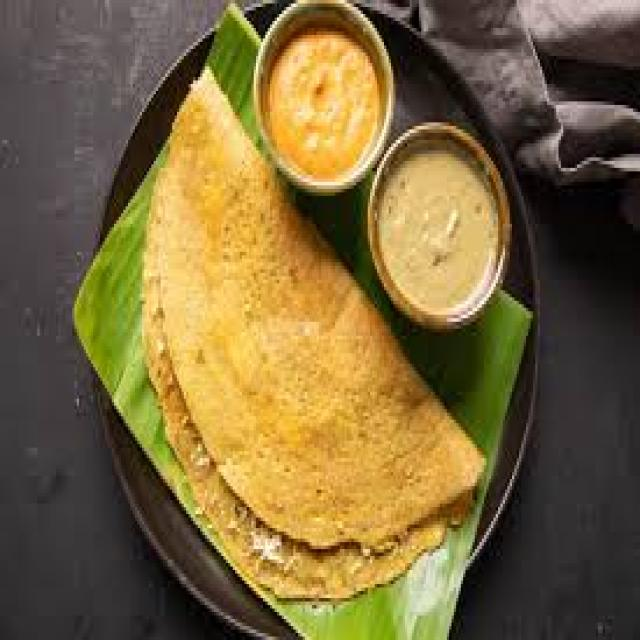DOSA: (135, 61, 488, 608)
